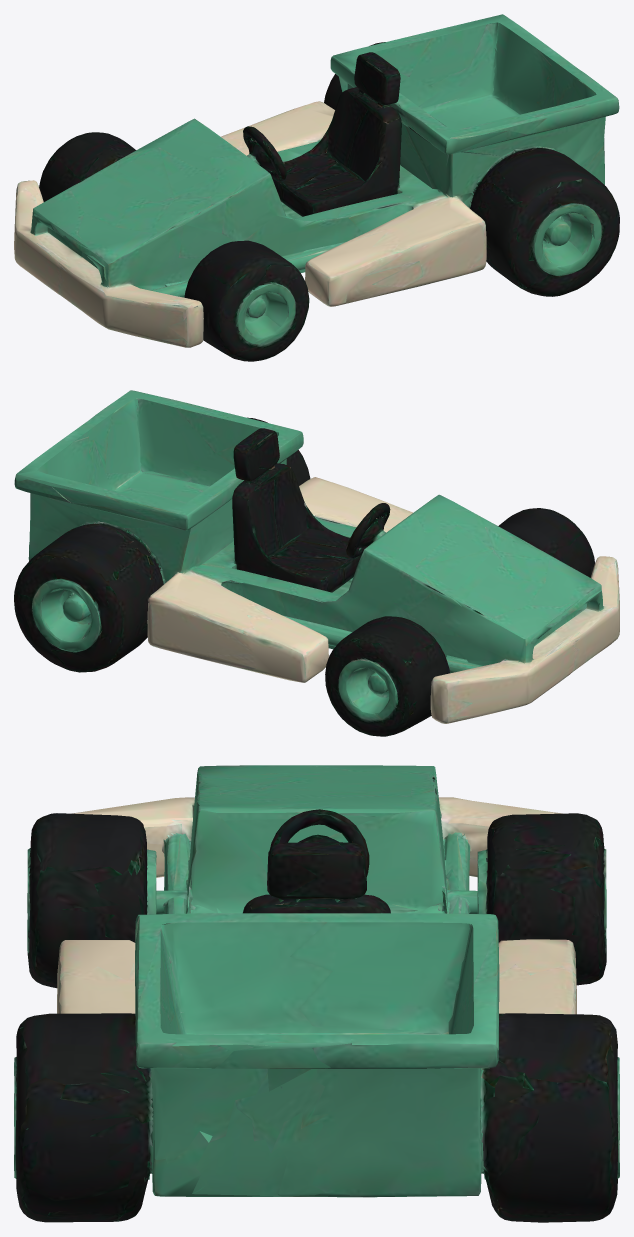
File: pixel-pickup.glb
3 views of the same model, one above another, from view 1: azimuth 30°, elevation 25°; view 2: azimuth 150°, elevation 25°; view 3: azimuth 270°, elevation 25° (orthographic). The views are drawn at different scales.
Size of the model in its own units: 1.9 by 0.6855 by 1.27.
1 material, 1 textured.
